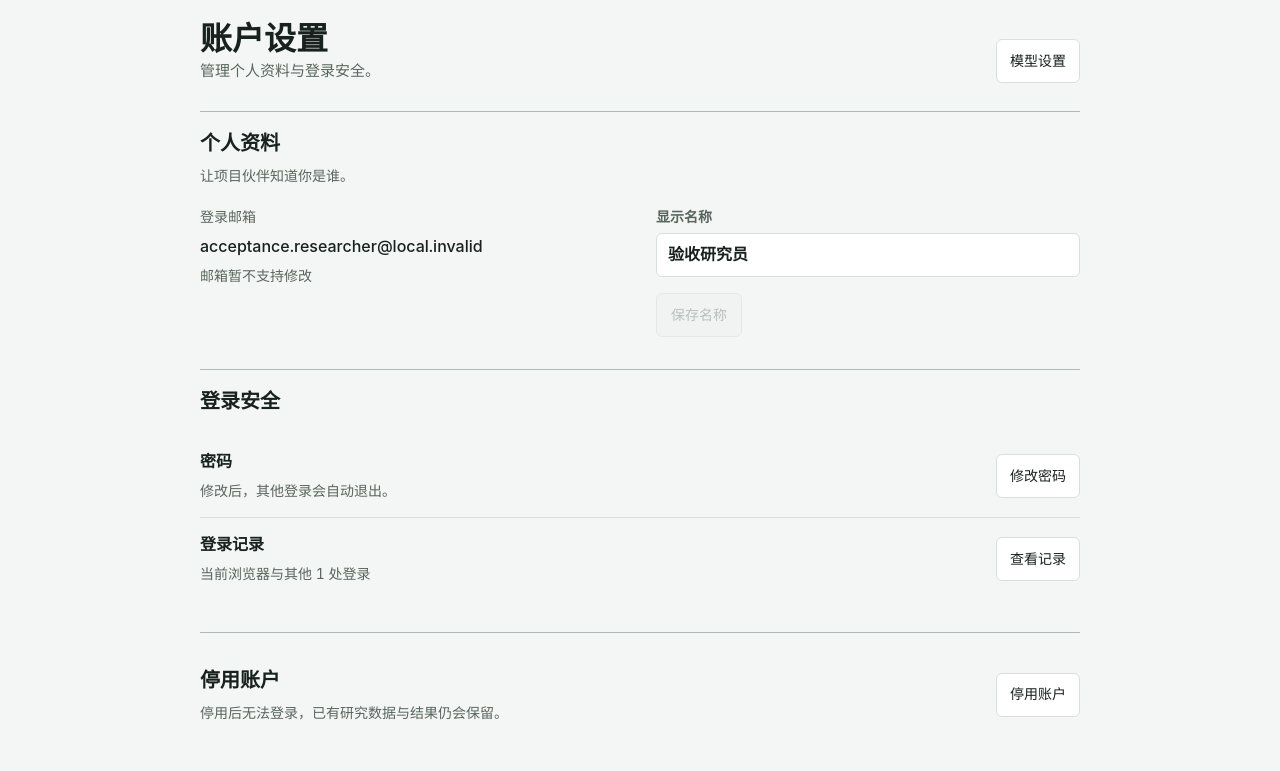
Scenario: keeps known sessions visible on failed refresh and disables changes until rechecked
This screenshot has width=1280, height=771.
Click the button "查看记录". click: (1038, 559)
box: x1=996 y1=537 x2=1080 y2=581
(page scrolled)
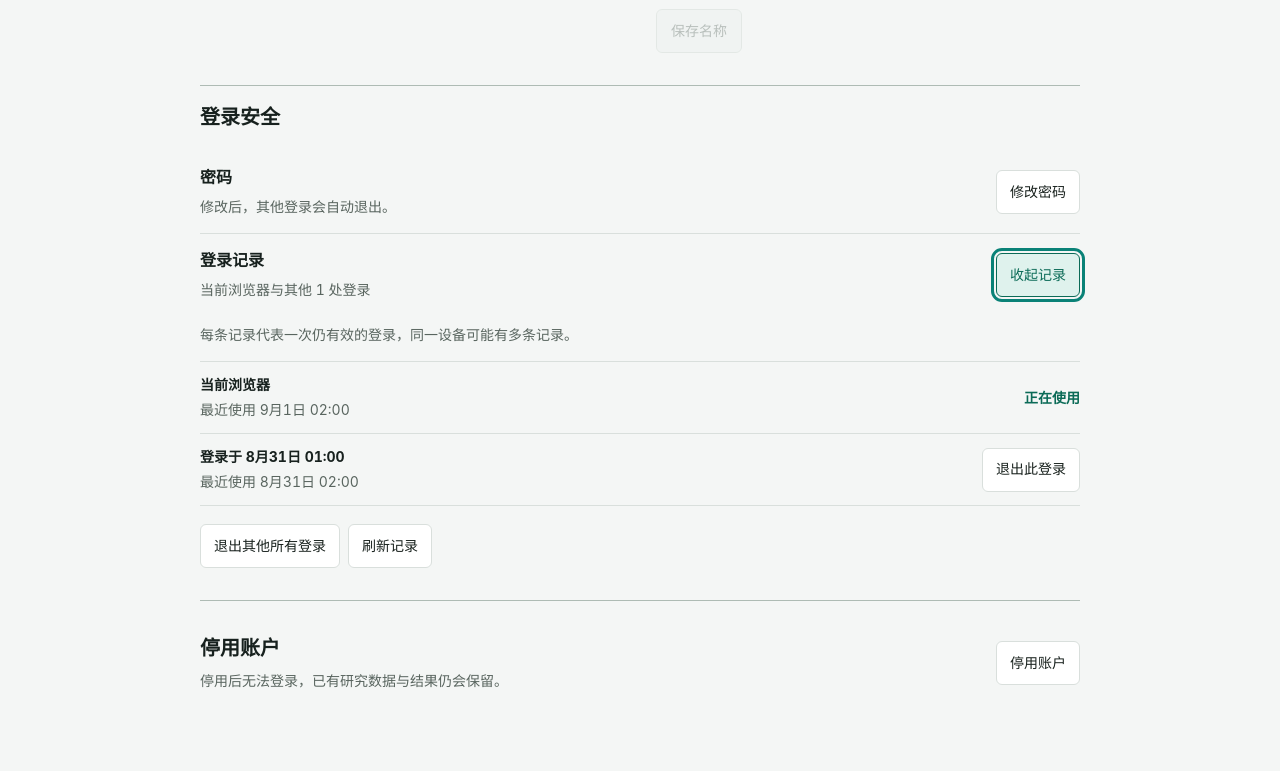
Click the button "刷新记录". click: (390, 546)
box: x1=348 y1=524 x2=432 y2=568
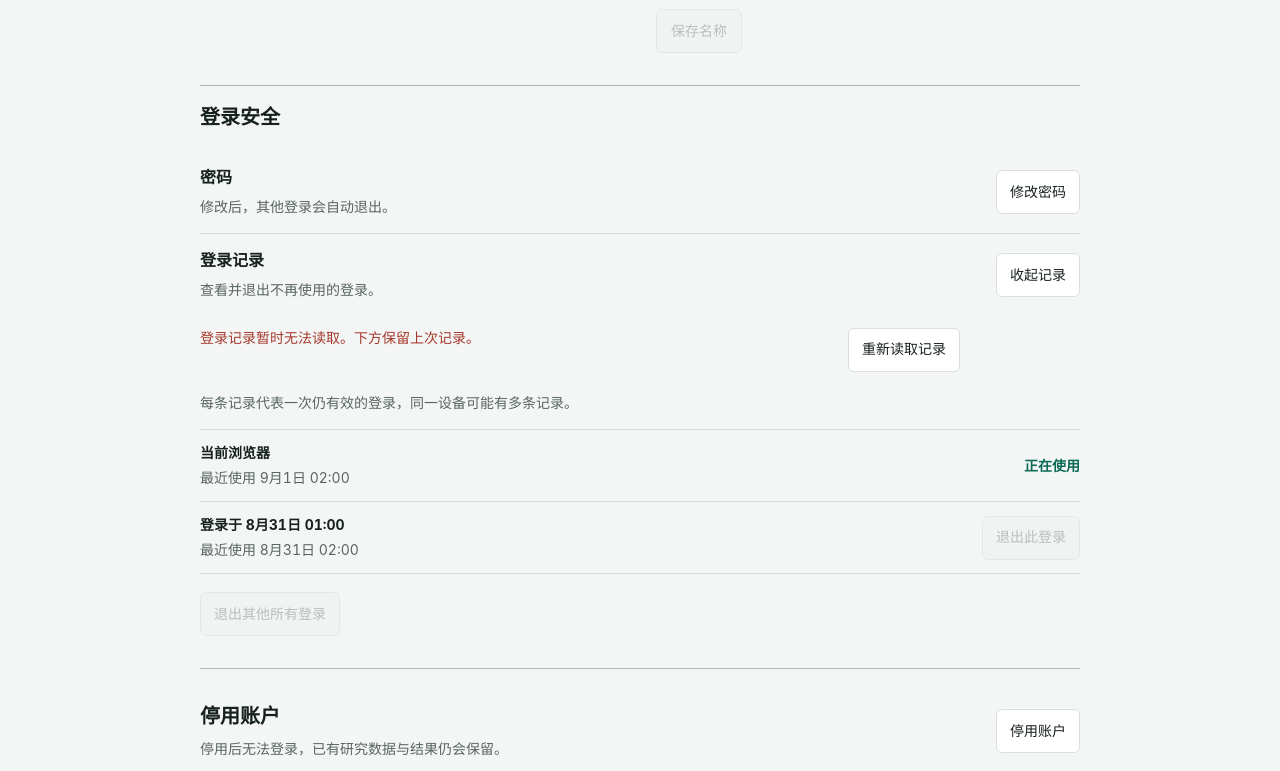
Expected: the text "当前浏览器" is shown, x1=200 y1=444 x2=270 y2=461
Now the message shows "下方保留上次记录", box x1=354 y1=329 x2=480 y2=346
Now the button "退出此登录" is disabled, box x1=982 y1=516 x2=1080 y2=560
Click the button "重新读取记录". click: (904, 350)
box: x1=848 y1=328 x2=960 y2=372
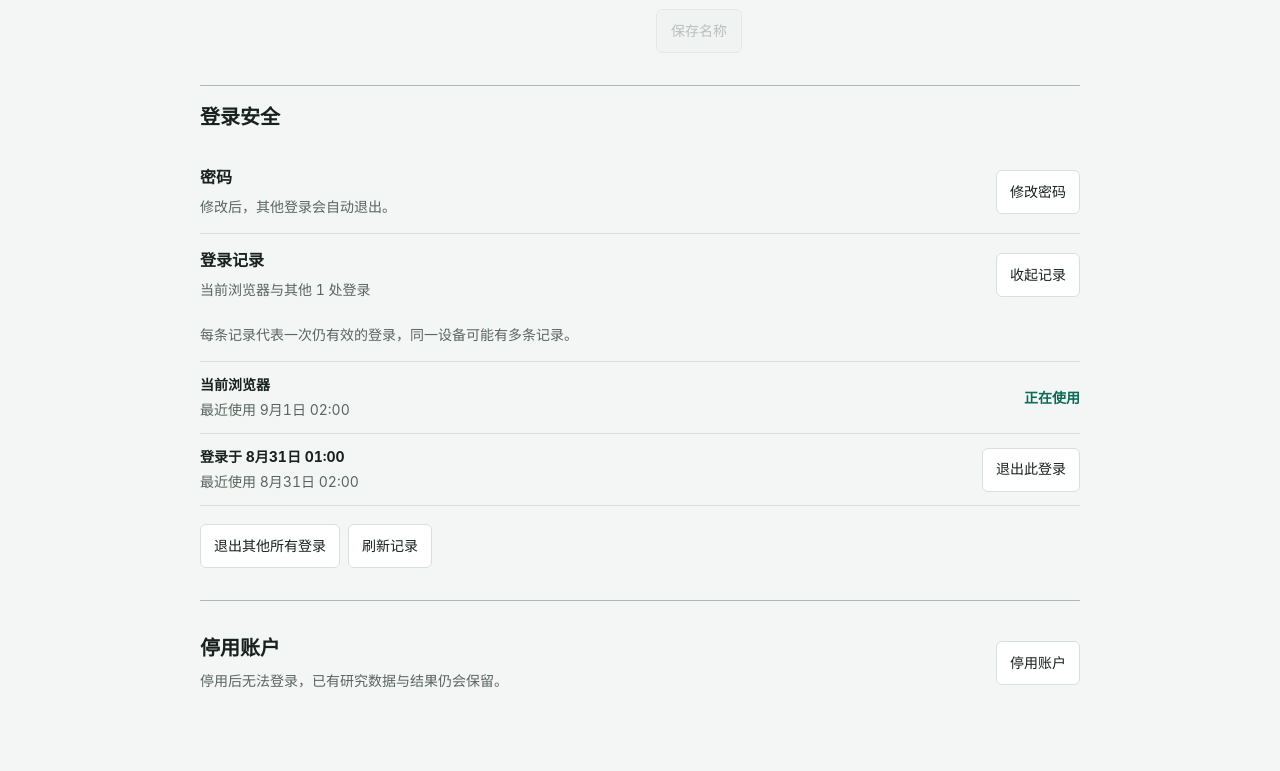
Now the button "退出此登录" is enabled, box x1=982 y1=448 x2=1080 y2=492
